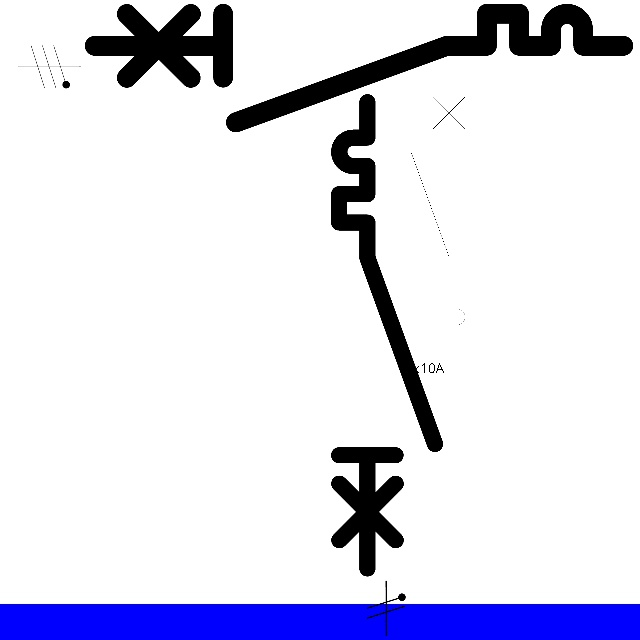interruptor_termomagnetico: (80, 0, 637, 136), (327, 90, 447, 580), (404, 74, 472, 352)
